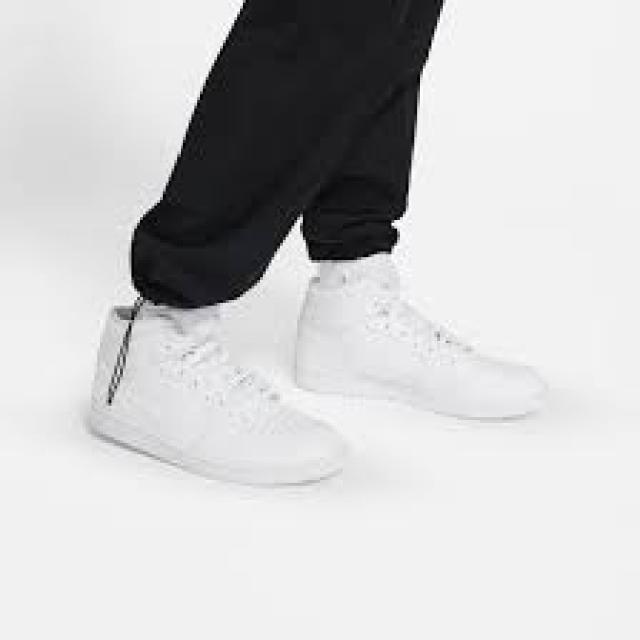shoe: (78, 295, 360, 498), (286, 250, 562, 427)
